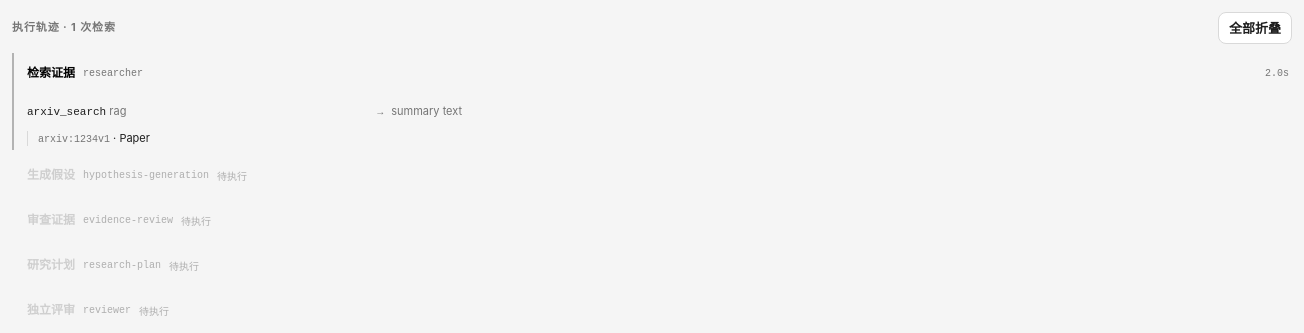
Scenario: Trajectory › 折叠检索证据段隐藏引用
The image size is (1304, 333).
Expected: the heading "执行轨迹 · 1 次检索" is shown, [12, 20, 116, 36]
Expected: the text "arxiv:1234v1" is shown, [38, 134, 110, 145]
Click the button "检索证据 researcher 2.0s" at (51, 72), box [24, 53, 1292, 93]
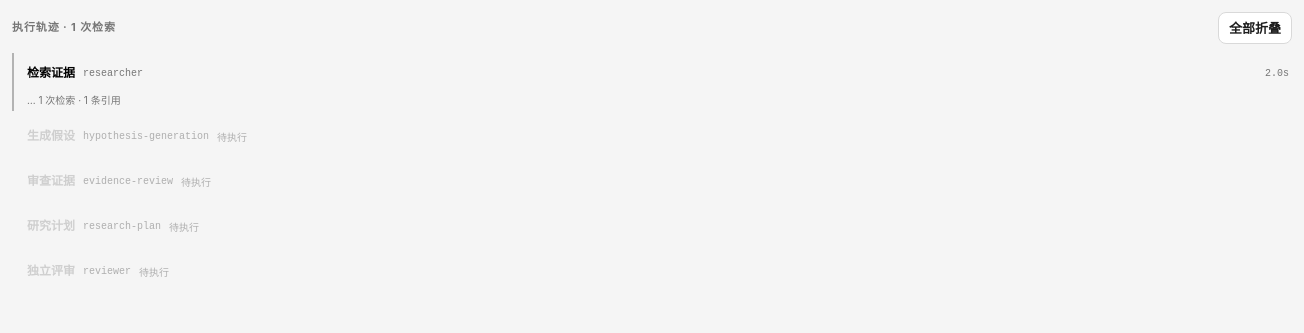
Expected: the text "arxiv:1234v1" is gone
Expected: the text "… 1 次检索 · 1 条引用" is shown, [27, 94, 121, 106]
